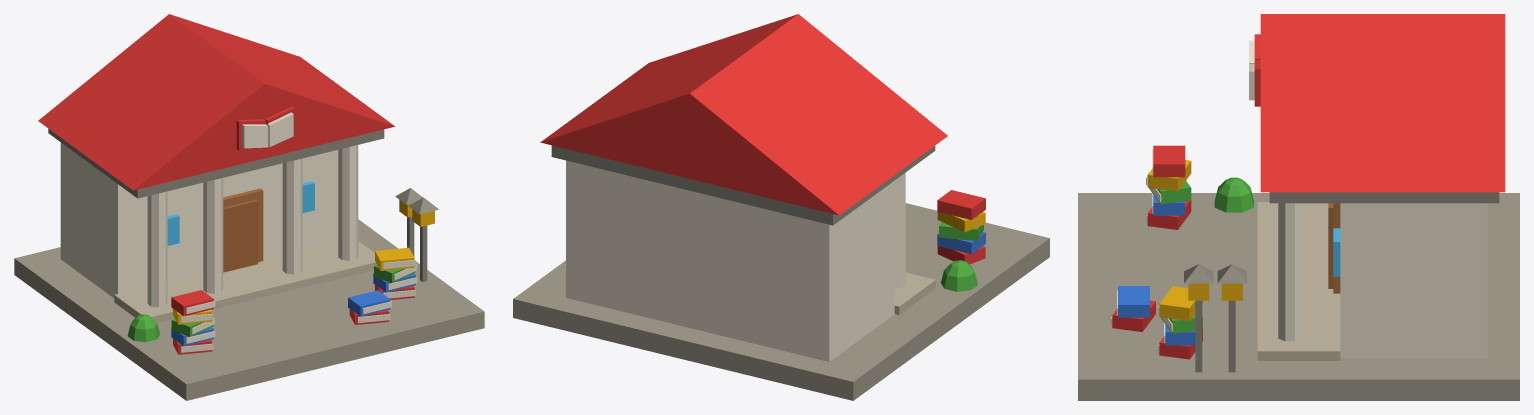
File: library_t2_v3.glb
3 views of the same model, side by side, from view 1: azimuth 30°, elevation 25°; view 2: azimuth 150°, elevation 25°; view 3: azimuth 270°, elevation 25° (orthographic). The views are drawn at different scales.
Visible parts, largest first — view 1: library_t2_v3; view 2: library_t2_v3; view 3: library_t2_v3.
Part boxes in pixels (x1,y1,x2,y2): library_t2_v3: [14, 14, 484, 400]; library_t2_v3: [513, 14, 1049, 400]; library_t2_v3: [1078, 14, 1519, 400].
Bounding box in the file's own units: 0.75 × 0.55 × 0.75.
Materials: 1 (1 with a texture image).
